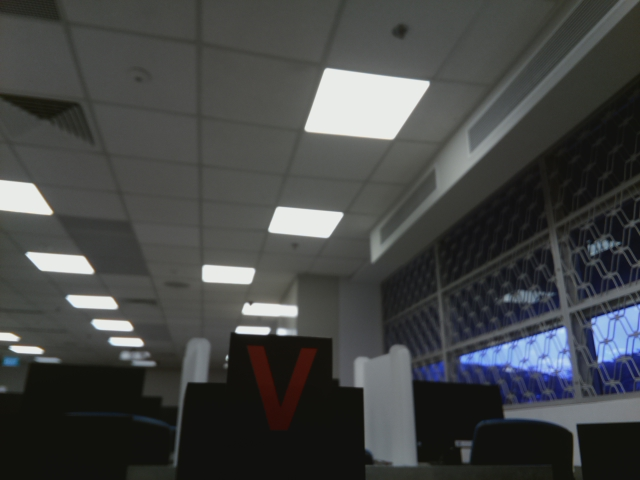v: (237, 335, 328, 435)
